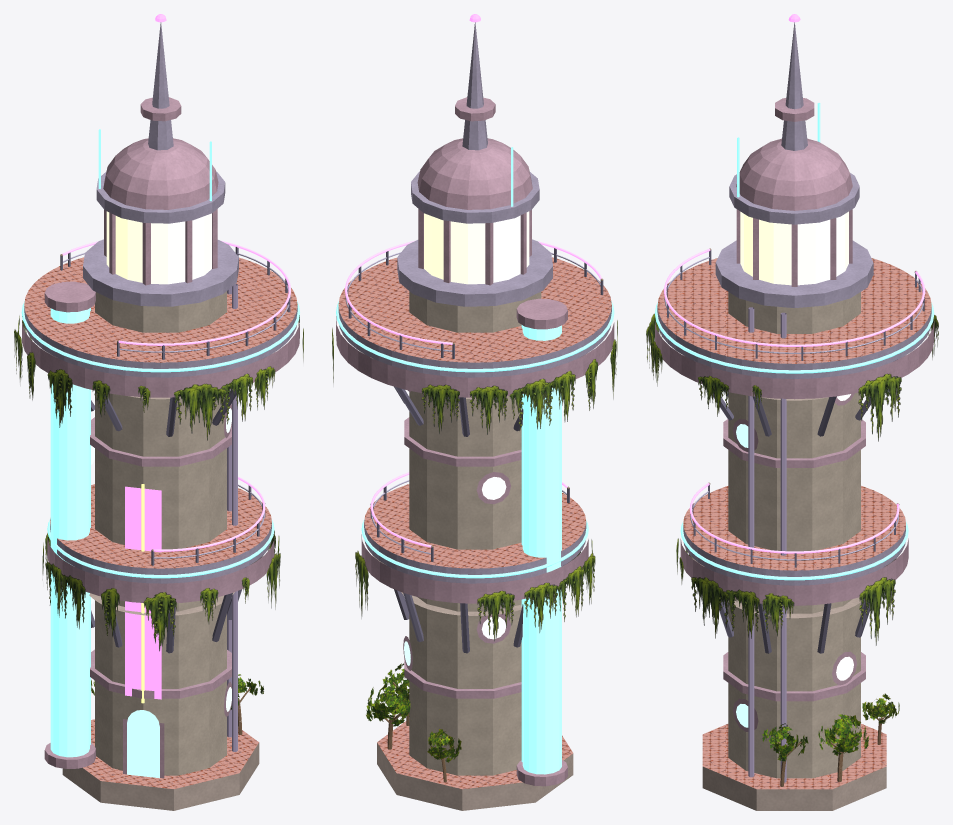
Rendered from TOWER_C.glb.
The picture shows the model from 3 angles, left to right: view 1: azimuth 30°, elevation 25°; view 2: azimuth 150°, elevation 25°; view 3: azimuth 270°, elevation 25°; orthographic projection.
Parts seen in each view (by area): view 1: BT_TOWER_C_Body, BT_TOWER_C_Moss30, BT_TOWER_C_Moss16, BT_TOWER_C_Deck30_Rail0_Posts, BT_TOWER_C_Deck30_Rail0_Rail, BT_TOWER_C_Deck16_Rail0_Posts; view 2: BT_TOWER_C_Body, BT_TOWER_C_Moss30, BT_TOWER_C_Moss16, BT_TOWER_C_Trees, BT_TOWER_C_Deck30_Rail0_Posts, BT_TOWER_C_Deck30_Rail0_Rail; view 3: BT_TOWER_C_Body, BT_TOWER_C_Moss16, BT_TOWER_C_Trees, BT_TOWER_C_Moss30, BT_TOWER_C_Deck30_Rail0_Posts, BT_TOWER_C_Deck30_Rail0_Rail, BT_TOWER_C_Deck16_Rail0_Rail, BT_TOWER_C_Deck16_Rail0_Posts.
Part boxes in pixels (bbox=[...]): BT_TOWER_C_Body: bbox=[21, 14, 299, 810]; BT_TOWER_C_Moss30: bbox=[14, 315, 303, 440]; BT_TOWER_C_Moss16: bbox=[42, 530, 280, 651]; BT_TOWER_C_Deck30_Rail0_Posts: bbox=[60, 247, 290, 359]; BT_TOWER_C_Deck30_Rail0_Rail: bbox=[62, 240, 290, 345]; BT_TOWER_C_Deck16_Rail0_Posts: bbox=[151, 484, 265, 565]; BT_TOWER_C_Body: bbox=[336, 14, 614, 810]; BT_TOWER_C_Moss30: bbox=[332, 320, 617, 434]; BT_TOWER_C_Moss16: bbox=[355, 539, 595, 641]; BT_TOWER_C_Trees: bbox=[366, 663, 461, 782]; BT_TOWER_C_Deck30_Rail0_Posts: bbox=[345, 248, 603, 358]; BT_TOWER_C_Deck30_Rail0_Rail: bbox=[345, 240, 602, 344]; BT_TOWER_C_Body: bbox=[655, 14, 934, 810]; BT_TOWER_C_Moss16: bbox=[676, 538, 895, 645]; BT_TOWER_C_Trees: bbox=[762, 693, 899, 786]; BT_TOWER_C_Moss30: bbox=[646, 313, 938, 441]; BT_TOWER_C_Deck30_Rail0_Posts: bbox=[664, 250, 924, 360]; BT_TOWER_C_Deck30_Rail0_Rail: bbox=[664, 248, 925, 346]; BT_TOWER_C_Deck16_Rail0_Rail: bbox=[689, 483, 899, 553]; BT_TOWER_C_Deck16_Rail0_Posts: bbox=[690, 485, 898, 567].
Bounding box in the file's own units: 16.58 × 48.75 × 17.07.
Materials: 15 (6 with a texture image).
